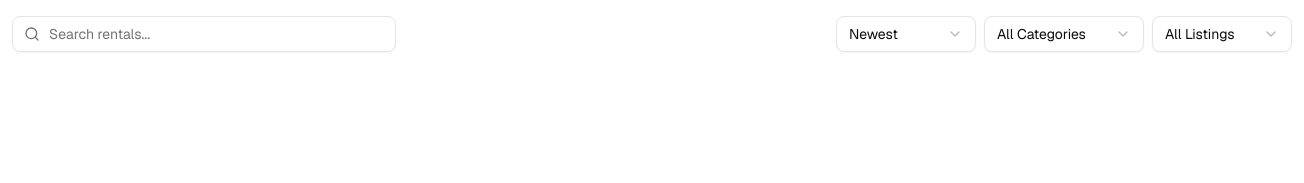
Scenario: GarageFiltersClient › Display Name Functions › should format rental status display name
Click the dropdown "All Listings". click: (1222, 34)
box: [1152,16,1292,52]
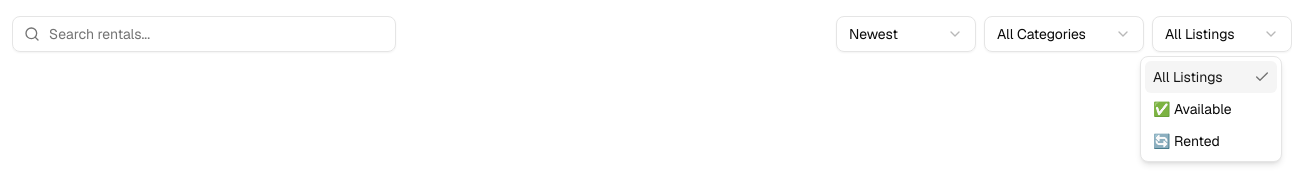
Expected: the text "✅ Available" is shown, [1153,99,1232,119]
Expected: the text "🔄 Rented" is shown, [1153,131,1220,151]
